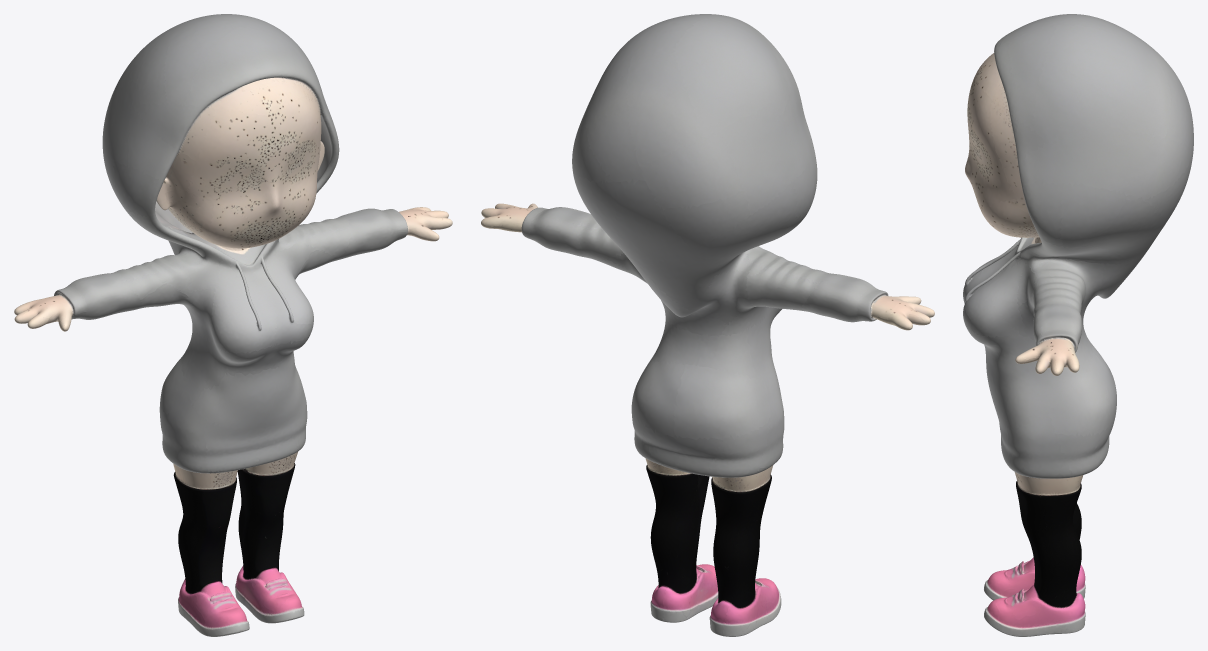
Rendered from baked_outfit_hoodiedress.glb.
3 renders of one model, left to right at view 1: azimuth 30°, elevation 25°; view 2: azimuth 150°, elevation 25°; view 3: azimuth 270°, elevation 25°, orthographic. The views are drawn at different scales.
Size of the model in its own units: 1.48 by 1.9 by 0.6736.
1 material, 1 textured.
